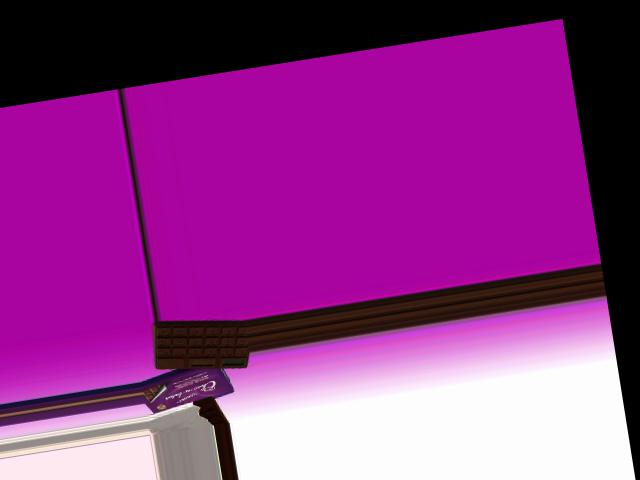chocolate: (149, 307, 248, 383)
